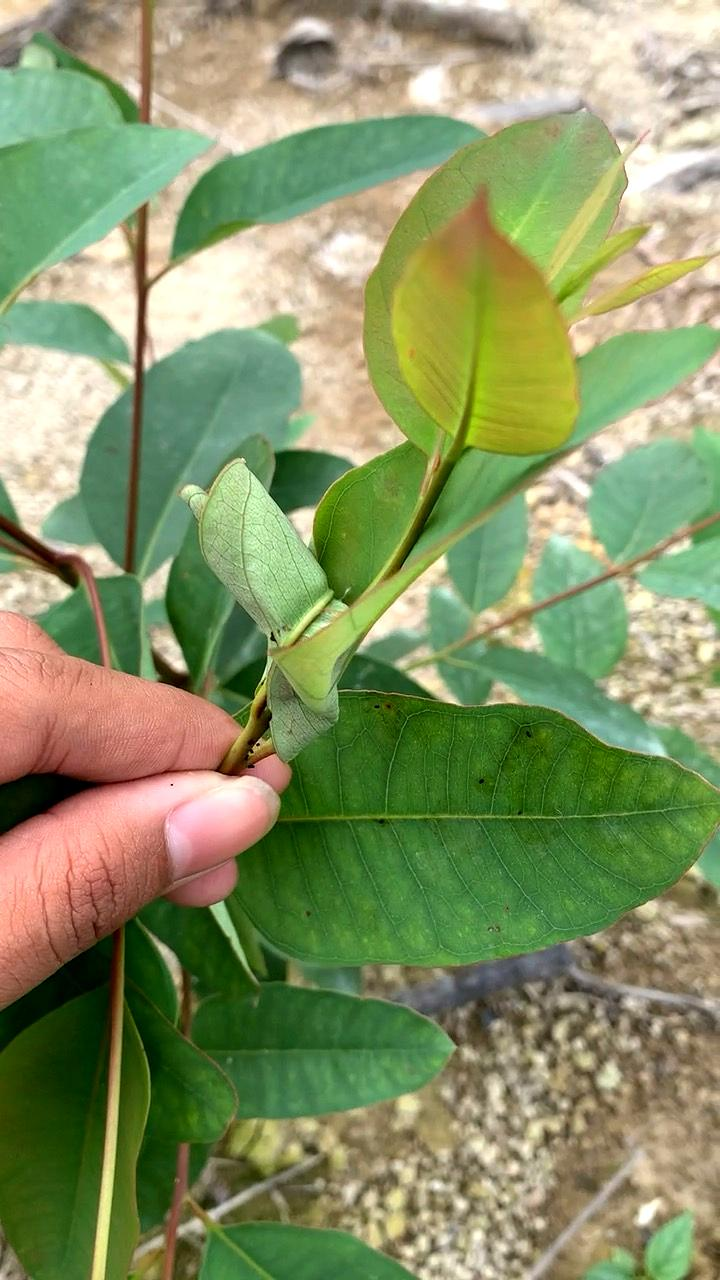Leaf Roller - Leaf: (165, 441, 377, 718)
